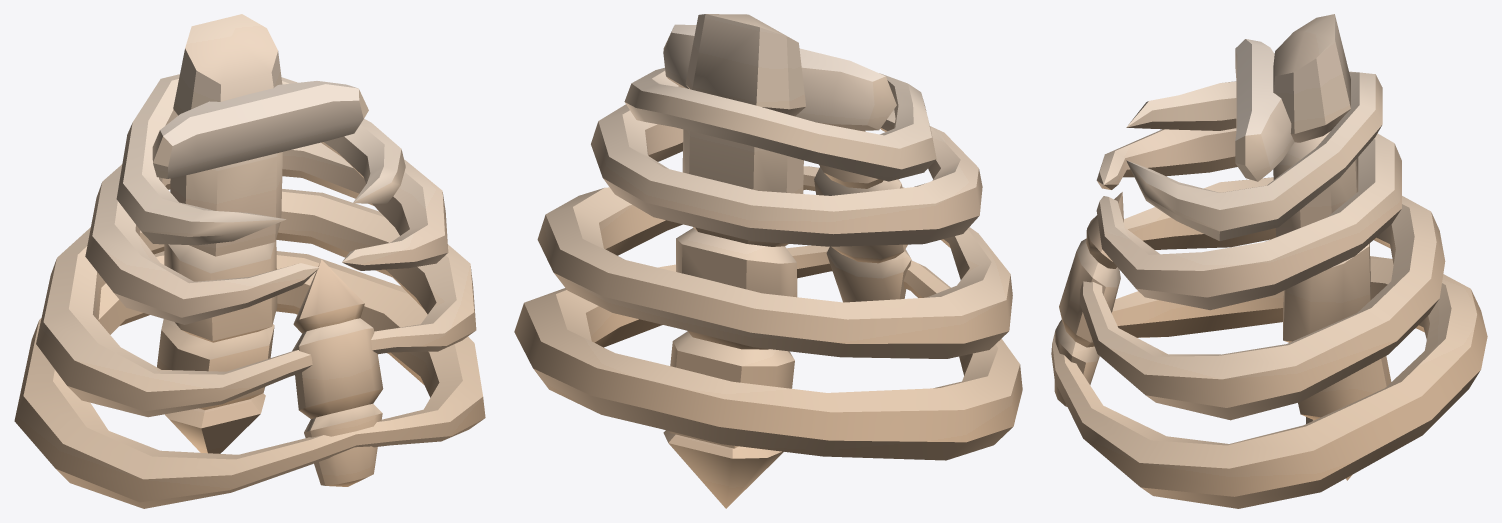
File: hb_ribcage.glb
3 views of the same model, side by side, from view 1: azimuth 30°, elevation 25°; view 2: azimuth 150°, elevation 25°; view 3: azimuth 270°, elevation 25° (orthographic). The views are drawn at different scales.
Visible parts, largest first — view 1: ribcage; view 2: ribcage; view 3: ribcage.
Part boxes in pixels (x1,y1,x2,y2): ribcage: [14, 14, 485, 508]; ribcage: [514, 14, 1022, 508]; ribcage: [1051, 14, 1487, 508].
Size of the model in its own units: 0.6897 by 0.7 by 0.6091.
Materials: 1 (1 with a texture image).
